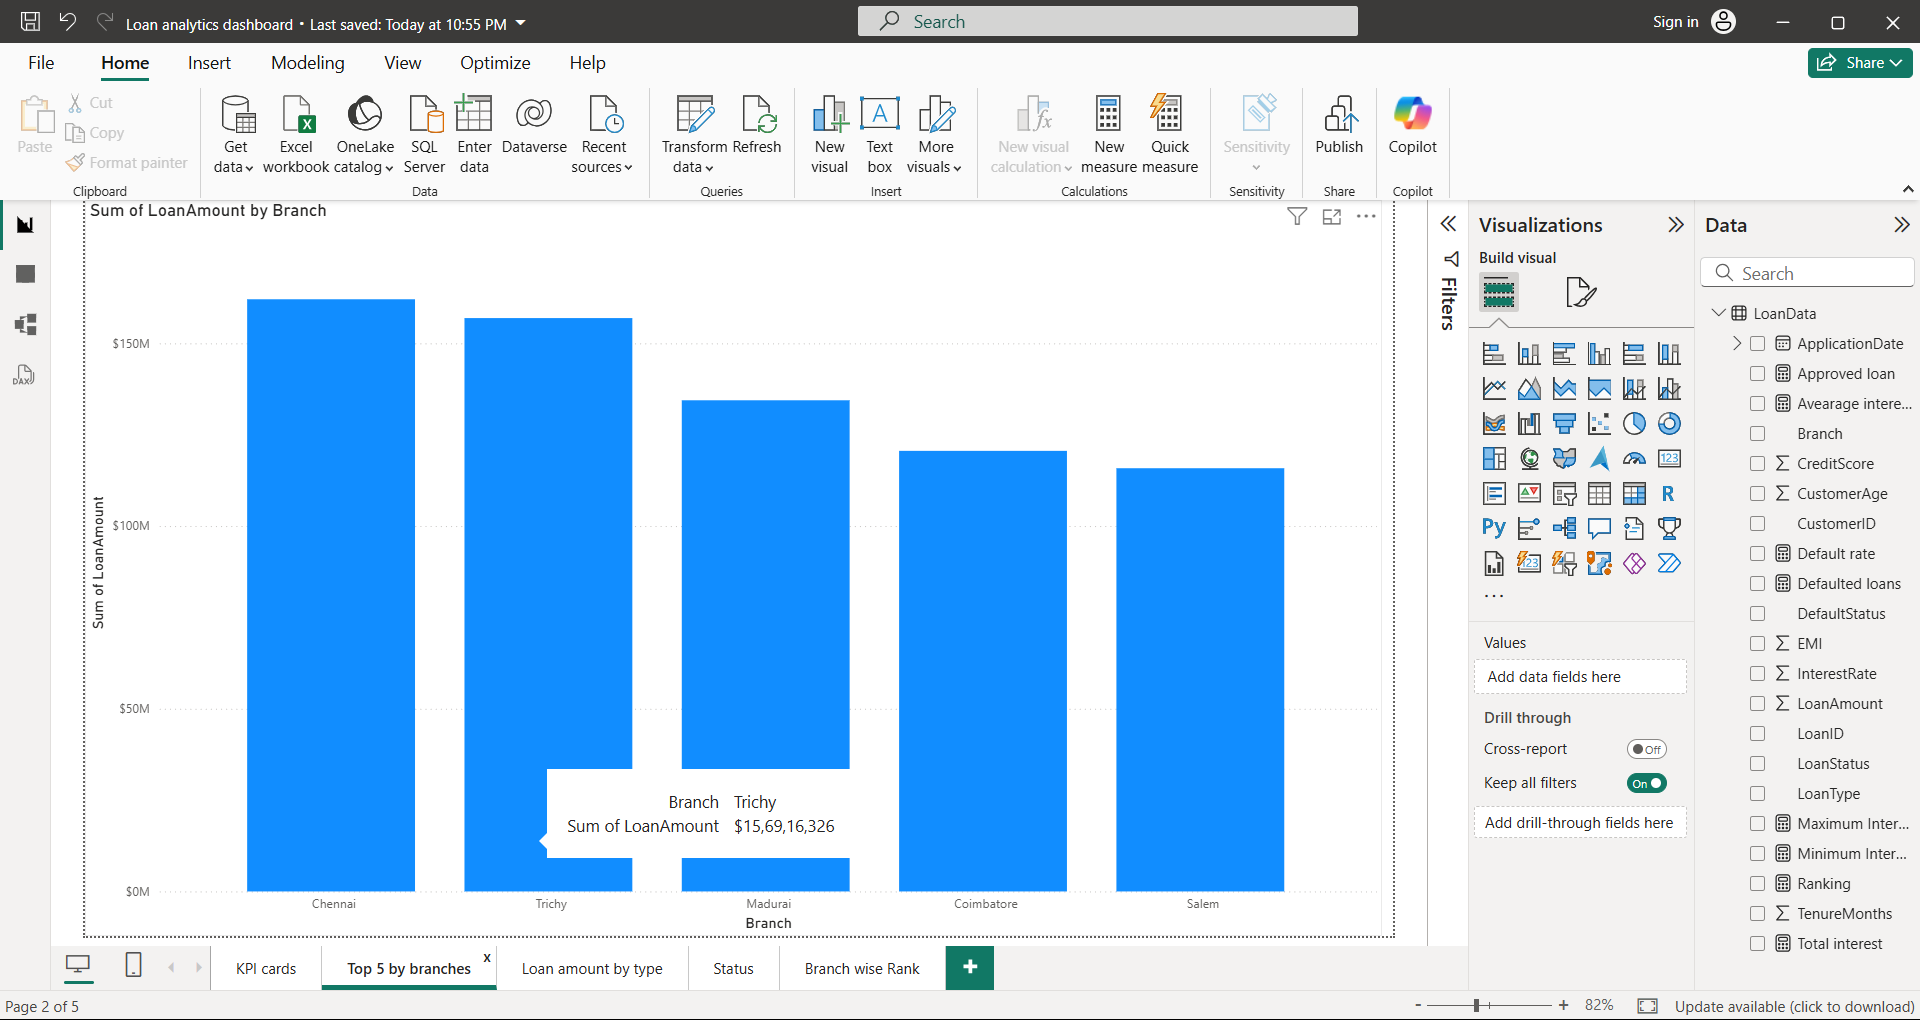

This screenshot's page, from the dashboard's own definition file:
{"tool":"powerbi","page":{"name":"Top 5 by branches","canvas":[1280,720],"ordinal":1},"visuals":[{"type":"columnChart","fields":{"Category":["LoanData.Branch"],"Y":["Sum(LoanData.LoanAmount)"]},"box":[0,0,1269.3,720.4],"z":0}]}

Visuals, with their boxes on the page's 1280x720 design canvas (x1, y1, x2, y2). These are canvas units, not pixel positions in the 1920x1020 screenshot, which may show the page scaled, cropped or inside an application window:
columnChart - LoanData.Branch x Sum(LoanData.LoanAmount): left=0, top=0, right=1269, bottom=720
